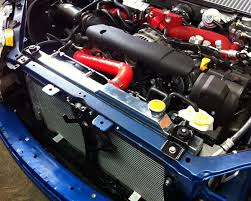radiator_hose: (73, 48, 133, 91)
